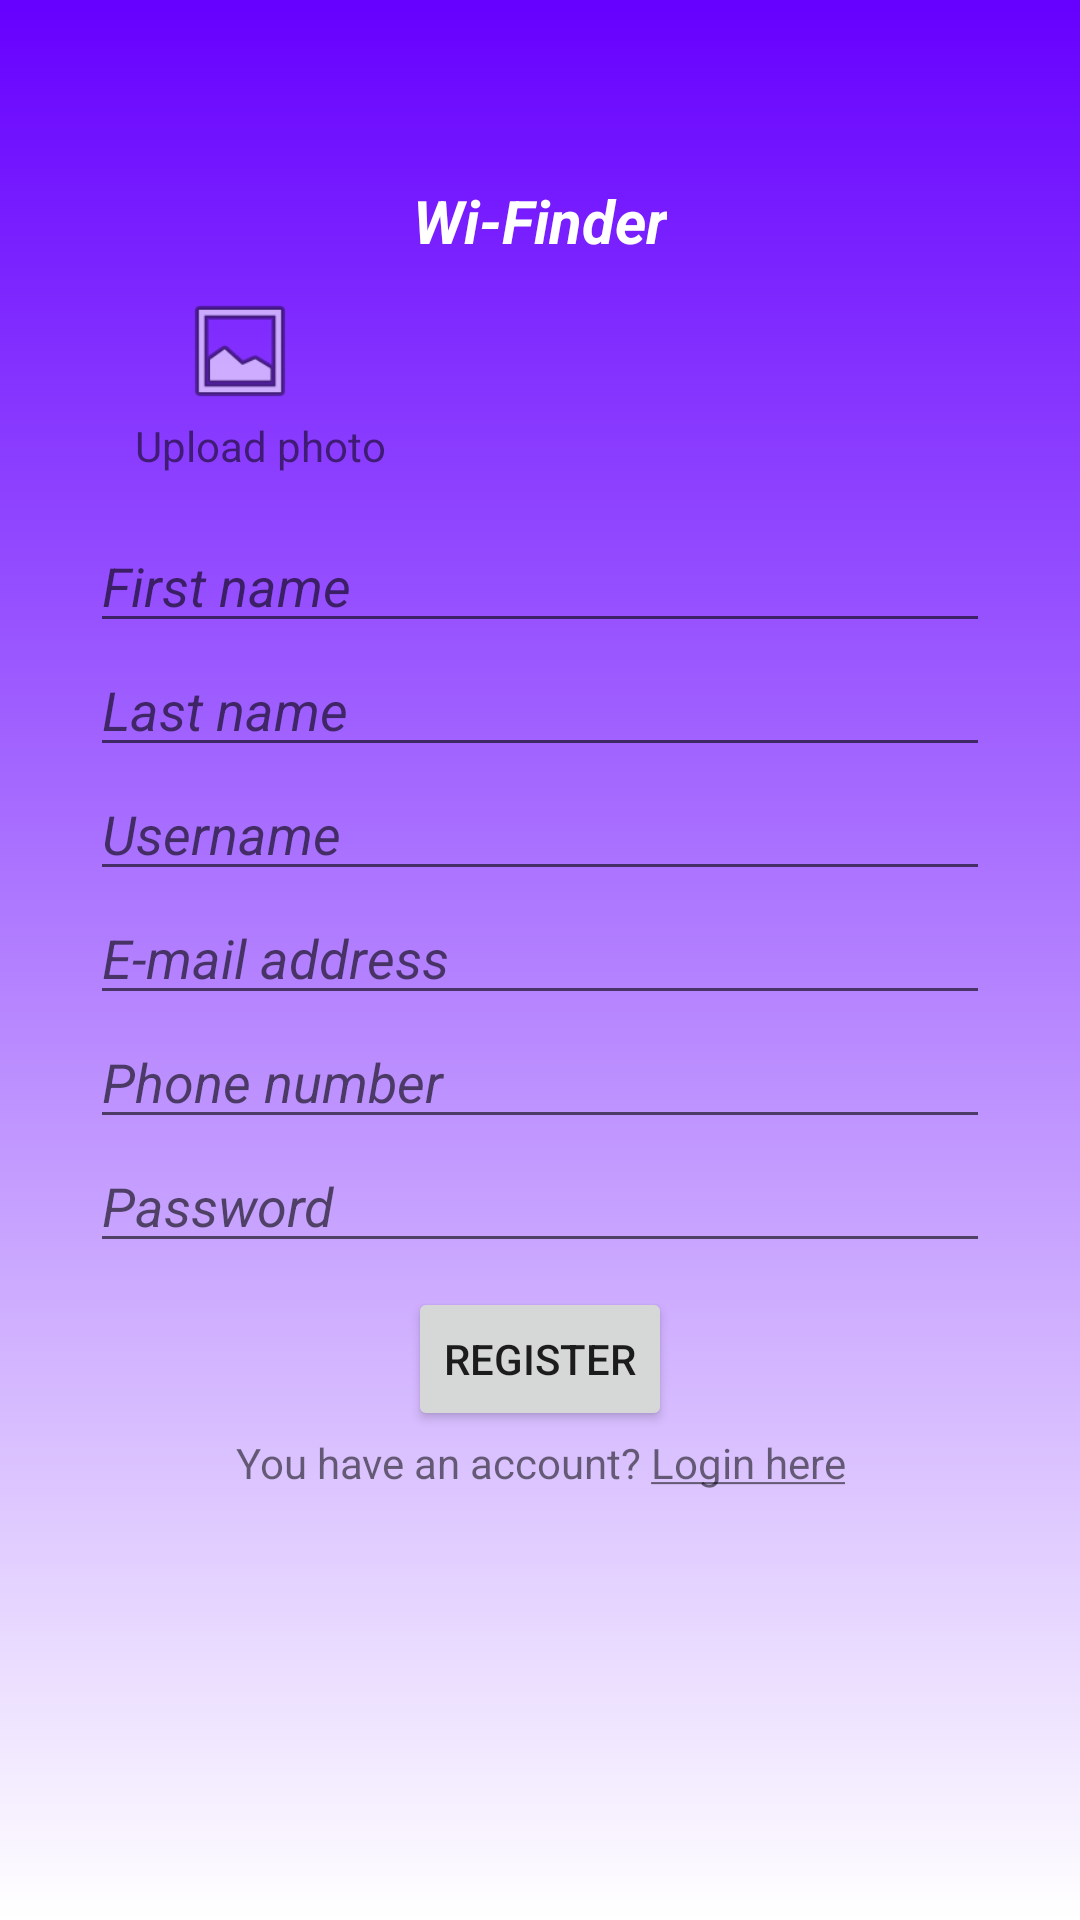

Point at icon controls on the screen. Image size 1080w x 1920h, points as point (x, y).
gallery: point (240, 351)
